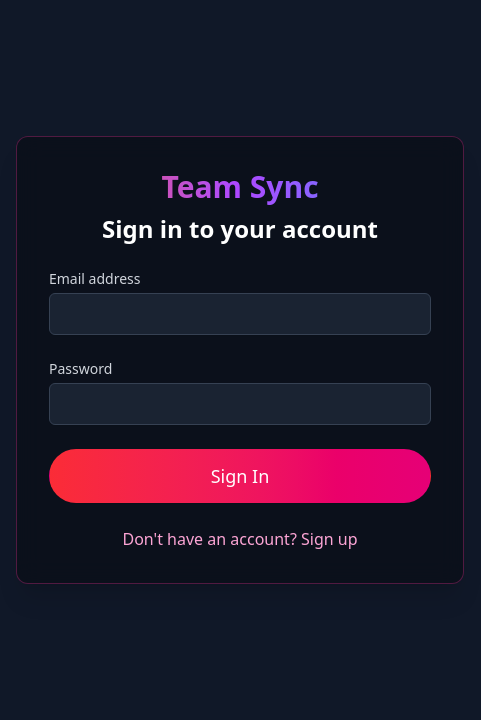
Test case: Auth errors › shows error when registering with existing account
This screenshot has width=481, height=720.
Click the button "Don't have an account? Sign up" at (241, 539), box [123,527,358,551]
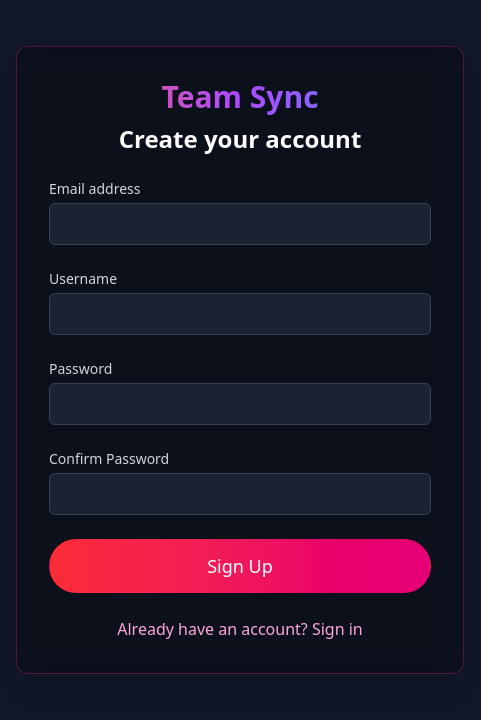
Type "existing@example.com" into the field with test id "auth-email" at (240, 224), box [49,203,431,245]
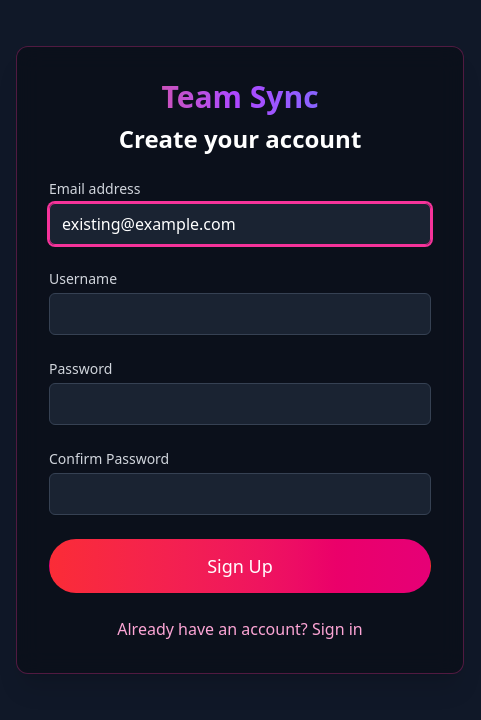
Type "tester" into the field with test id "auth-username" at (240, 314), box [49,293,431,335]
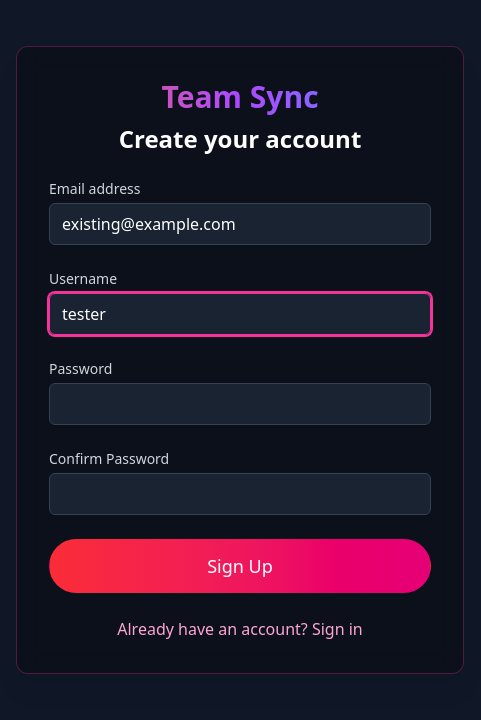
Type "secret123" into the password field with test id "auth-password" at (240, 404), box [49,383,431,425]
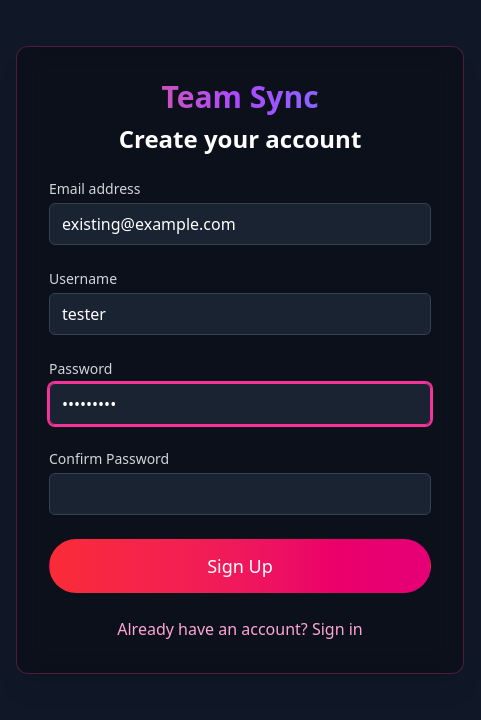
Type "secret123" into the password field with test id "auth-confirm-password" at (240, 494), box [49,473,431,515]
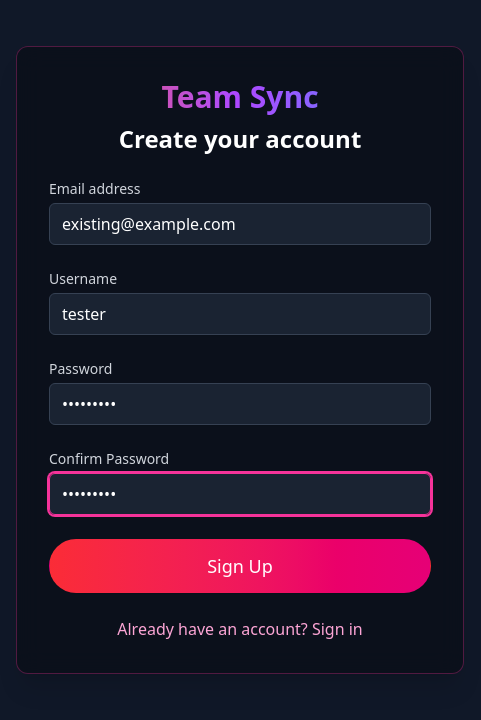
Click the button "Sign Up" at (240, 566), box [49,539,431,593]
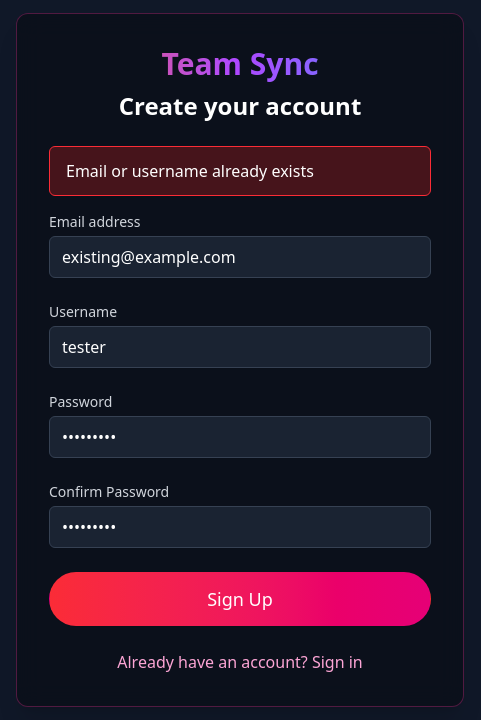
Expected: the text "Email or username already exists" is shown, [49,146,431,196]
